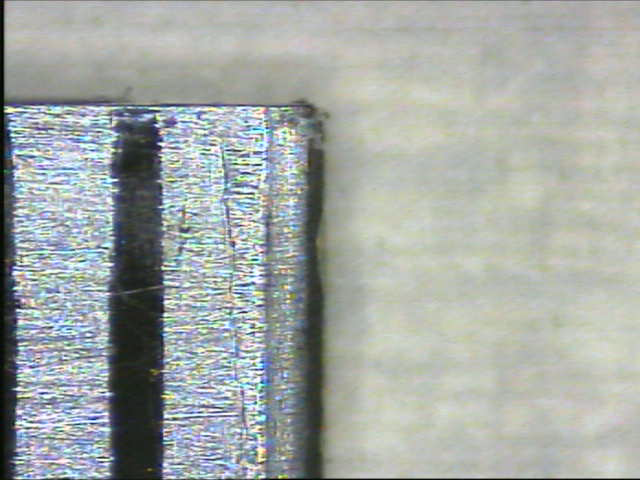edge: (264, 101, 335, 479)
line: (106, 110, 168, 477)
